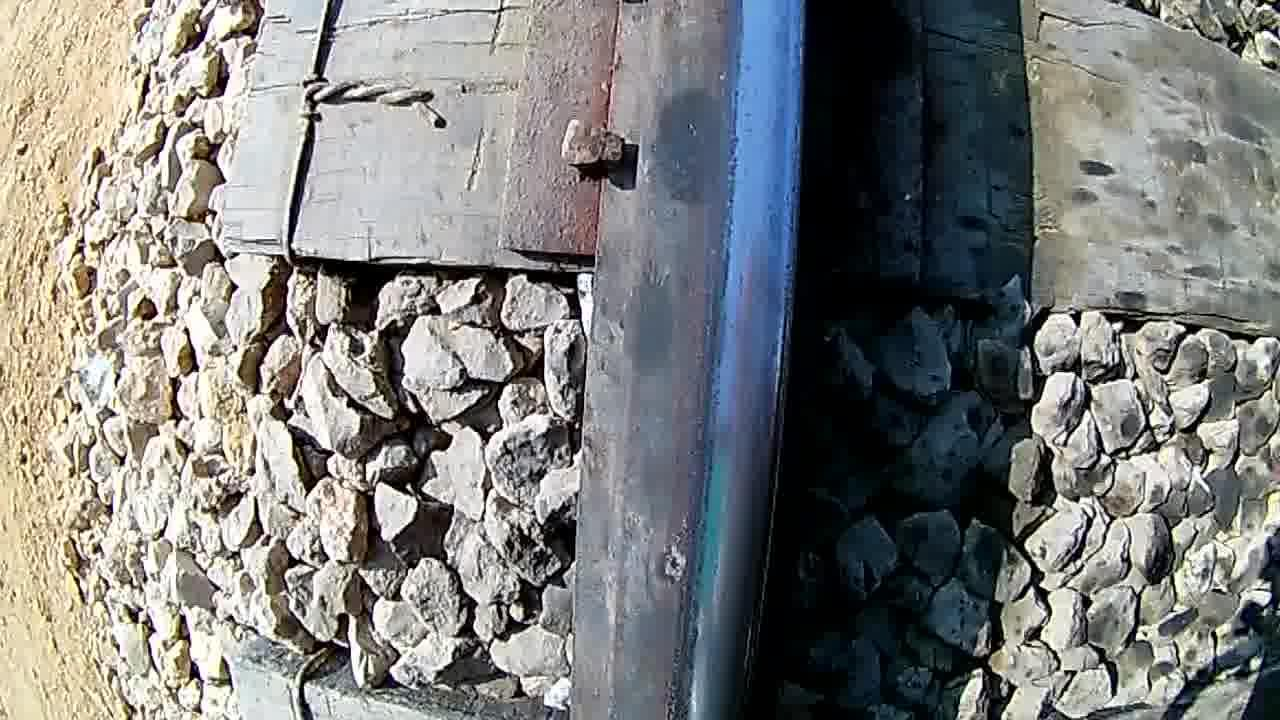crack: (626, 0, 804, 720)
